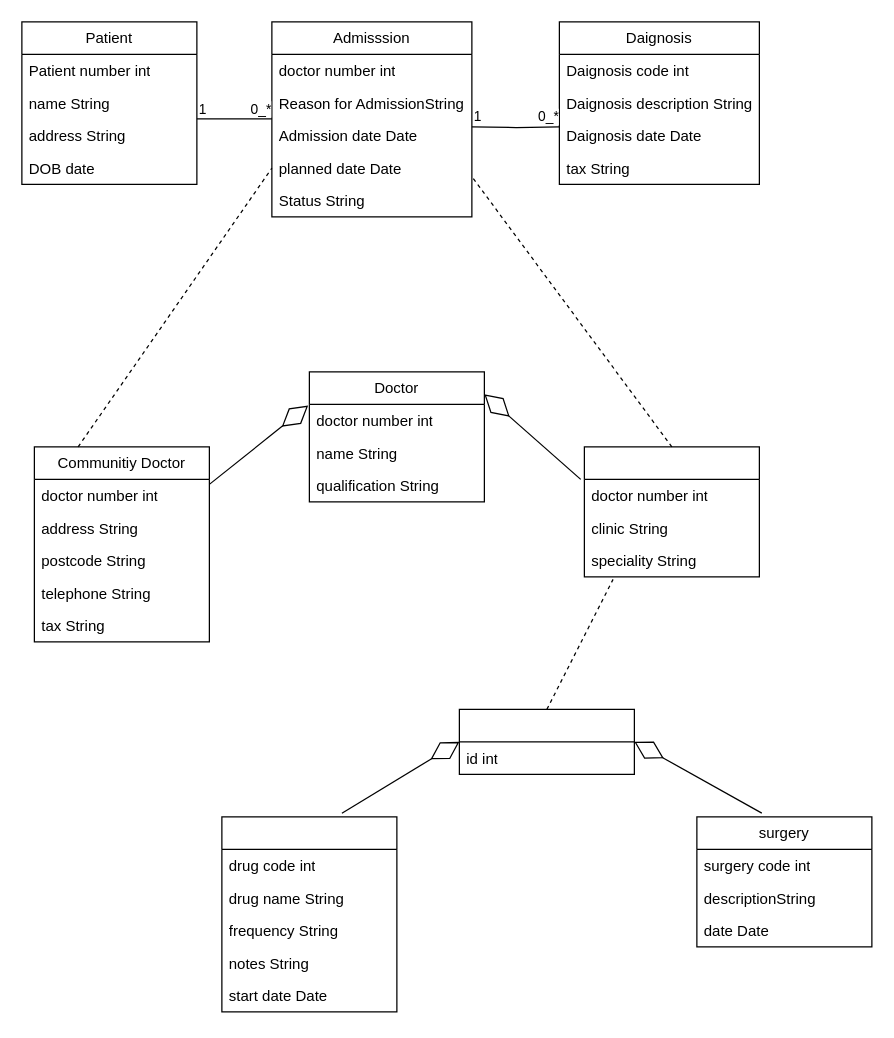
The diagram is 894 pixels wide and 1038 high, and some of its shapes have lost their labels. The shapes that lost their labels are listed below. From the top down, each one's box as (x1, y1, x2, y2) in pixels, then its label:
(583, 446, 759, 577): Hospital Doctor
(458, 708, 634, 774): Treatement
(221, 816, 397, 1012): Medication
